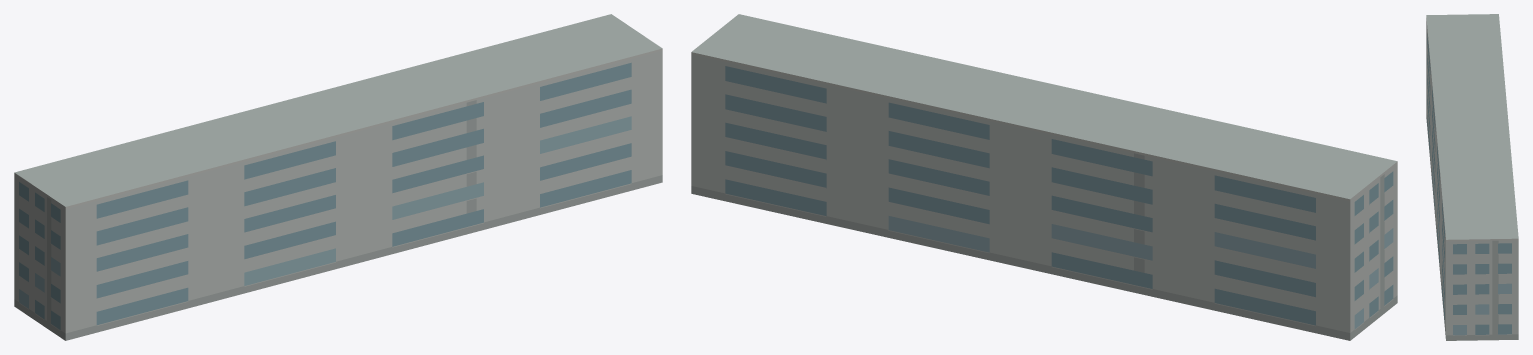
The model's file is residential-d2a32a37-fc07-4ede-ad83-5c5b14d5e263.glb.
3 views of the same model, side by side, from view 1: azimuth 30°, elevation 25°; view 2: azimuth 150°, elevation 25°; view 3: azimuth 270°, elevation 25° (orthographic). The views are drawn at different scales.
Visible parts, largest first — view 1: residential-d2a32a37-fc07-4ede-ad83-5c5b14d5e263.tmp; view 2: residential-d2a32a37-fc07-4ede-ad83-5c5b14d5e263.tmp; view 3: residential-d2a32a37-fc07-4ede-ad83-5c5b14d5e263.tmp.
Part boxes in pixels (x1,y1,x2,y2): residential-d2a32a37-fc07-4ede-ad83-5c5b14d5e263.tmp: (14, 14, 662, 340); residential-d2a32a37-fc07-4ede-ad83-5c5b14d5e263.tmp: (691, 14, 1397, 340); residential-d2a32a37-fc07-4ede-ad83-5c5b14d5e263.tmp: (1426, 14, 1518, 340).
Size of the model in its own units: 73.06 by 15.25 by 12.65.
